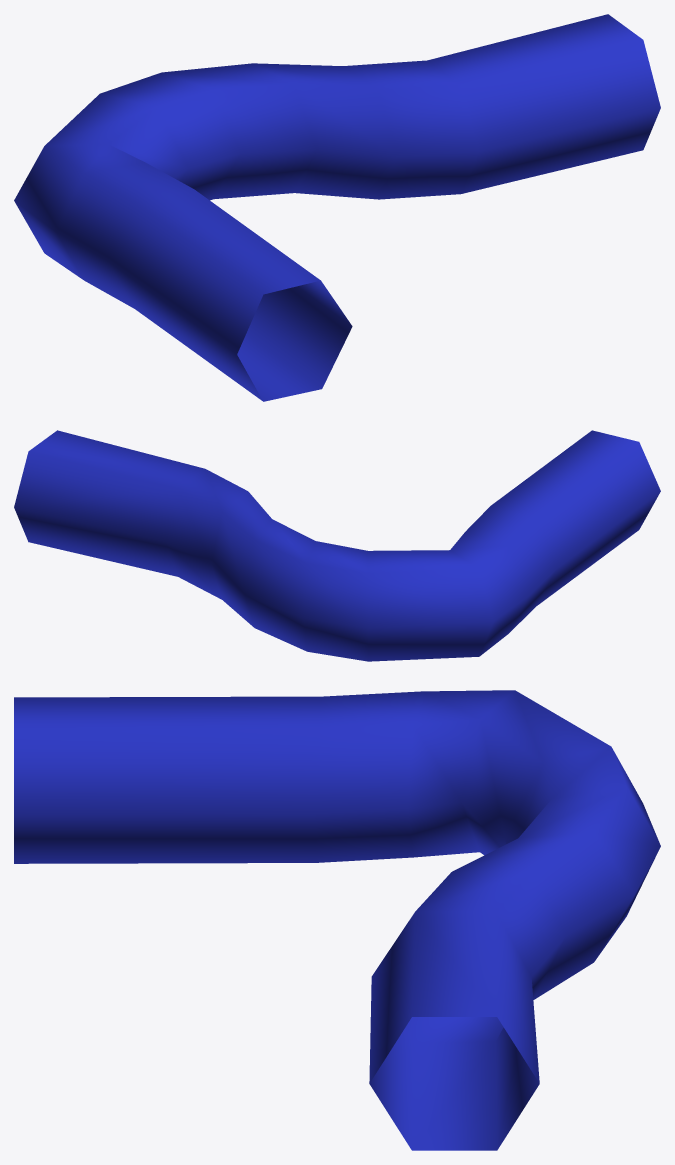
File: Módulo de Cabos 3.fbx
The picture shows the model from 3 angles, top to bottom: view 1: azimuth 30°, elevation 25°; view 2: azimuth 150°, elevation 25°; view 3: azimuth 270°, elevation 25°; orthographic projection. The views are drawn at different scales.
Parts seen in each view (by area): view 1: Cube.002; view 2: Cube.002; view 3: Cube.002.
Boxes of the visible parts, x1=… form: Cube.002: x1=14, y1=14, x2=660, y2=401; Cube.002: x1=14, y1=430, x2=660, y2=661; Cube.002: x1=14, y1=690, x2=660, y2=1150.
Bounding box in the file's own units: 501 × 90.99 × 399.
